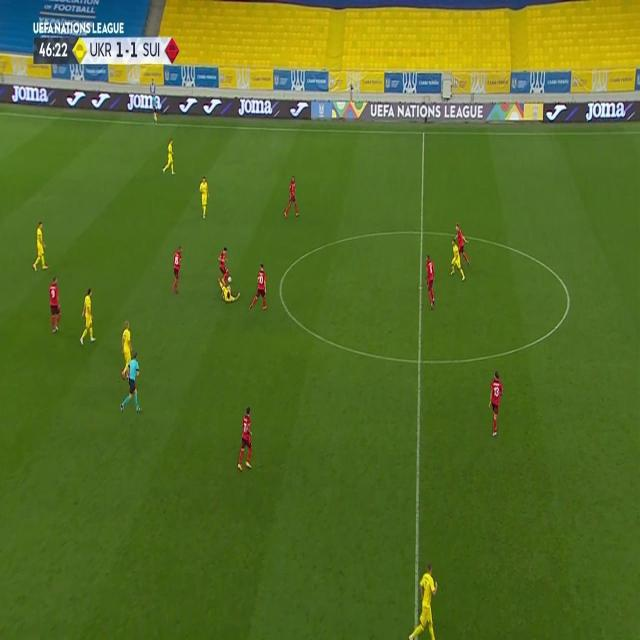ball: (228, 274, 232, 284)
player: (407, 560, 441, 640), (121, 348, 143, 418), (236, 404, 254, 471), (487, 370, 504, 437), (78, 287, 96, 345), (249, 263, 269, 312), (31, 220, 49, 272), (47, 274, 62, 334), (422, 252, 437, 310), (120, 319, 134, 381), (282, 174, 300, 220), (217, 246, 238, 284), (449, 239, 467, 282), (454, 223, 470, 267), (161, 136, 177, 176), (171, 246, 183, 294), (218, 281, 241, 303), (198, 175, 209, 219), (151, 94, 159, 124)
